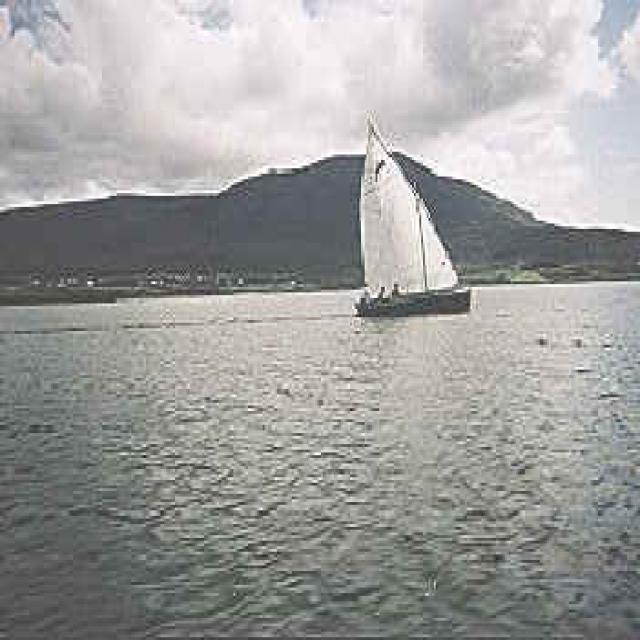Ship: (349, 110, 474, 319)
